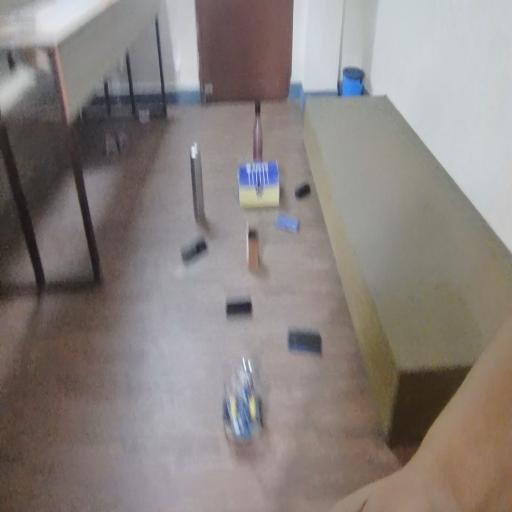Bottle: (248, 95, 270, 151)
car: (211, 356, 274, 473)
